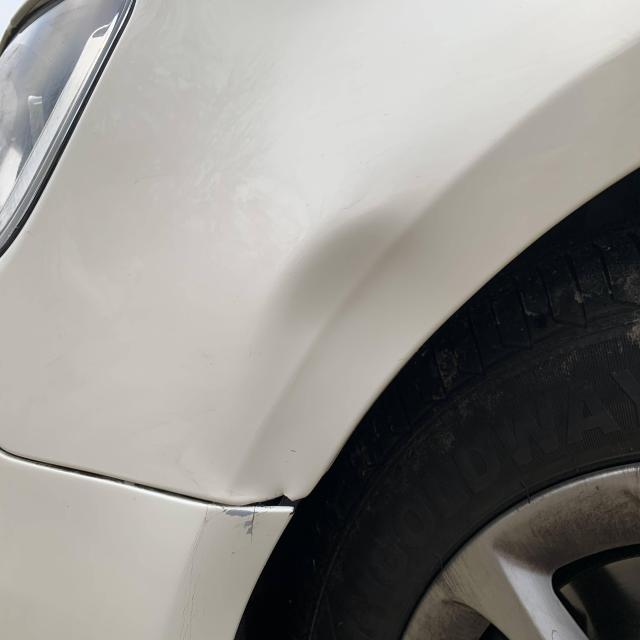dent: (236, 192, 497, 504)
